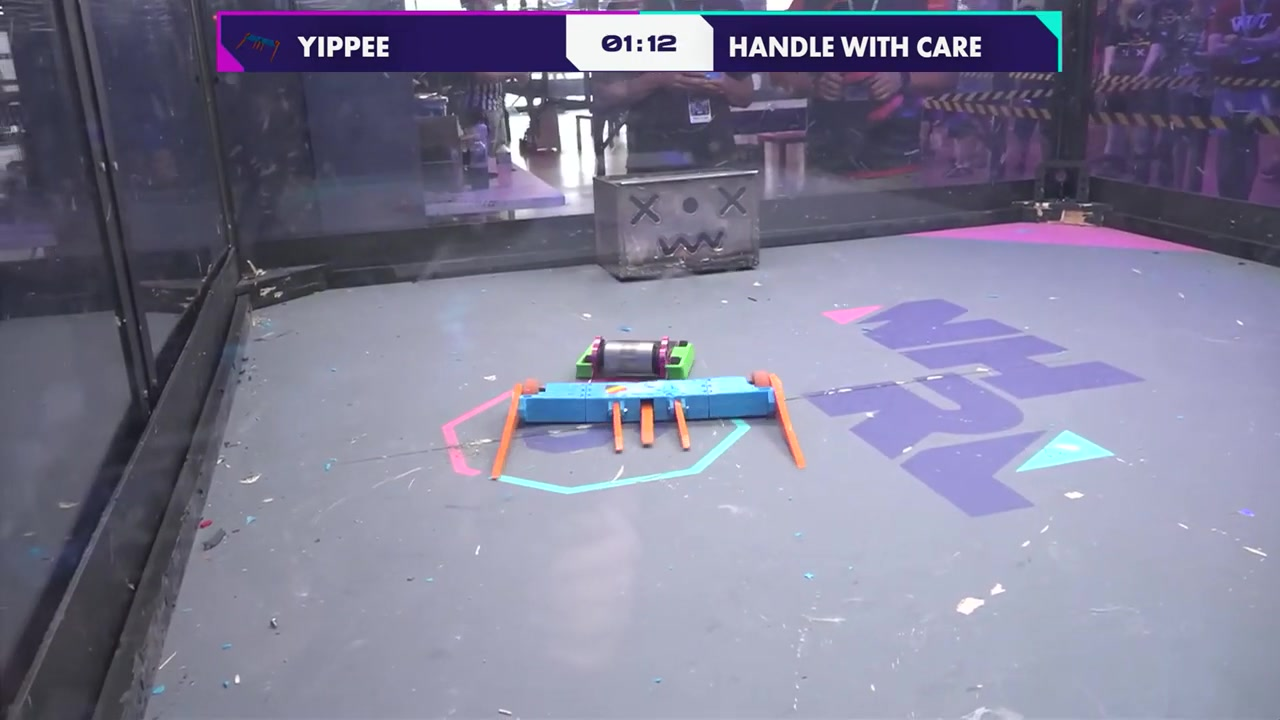combatbot: (488, 374, 806, 480), (577, 337, 695, 380)
debris: (194, 519, 222, 553)
housebot: (594, 171, 762, 284)
